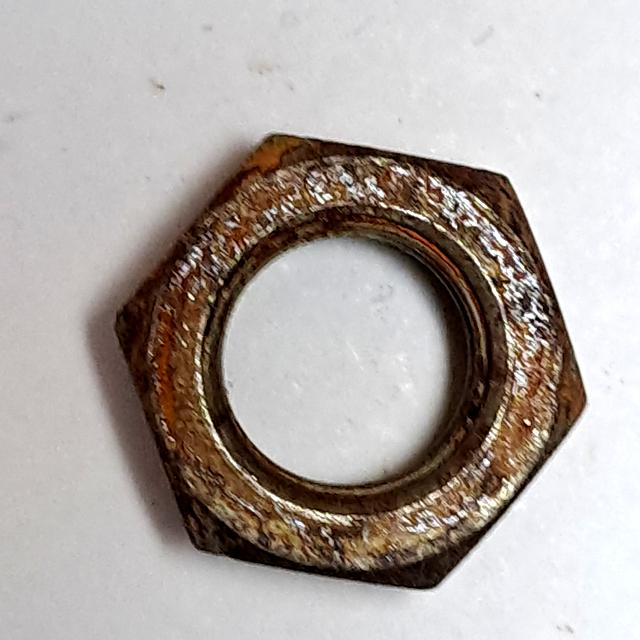Rust: (111, 119, 600, 604)
